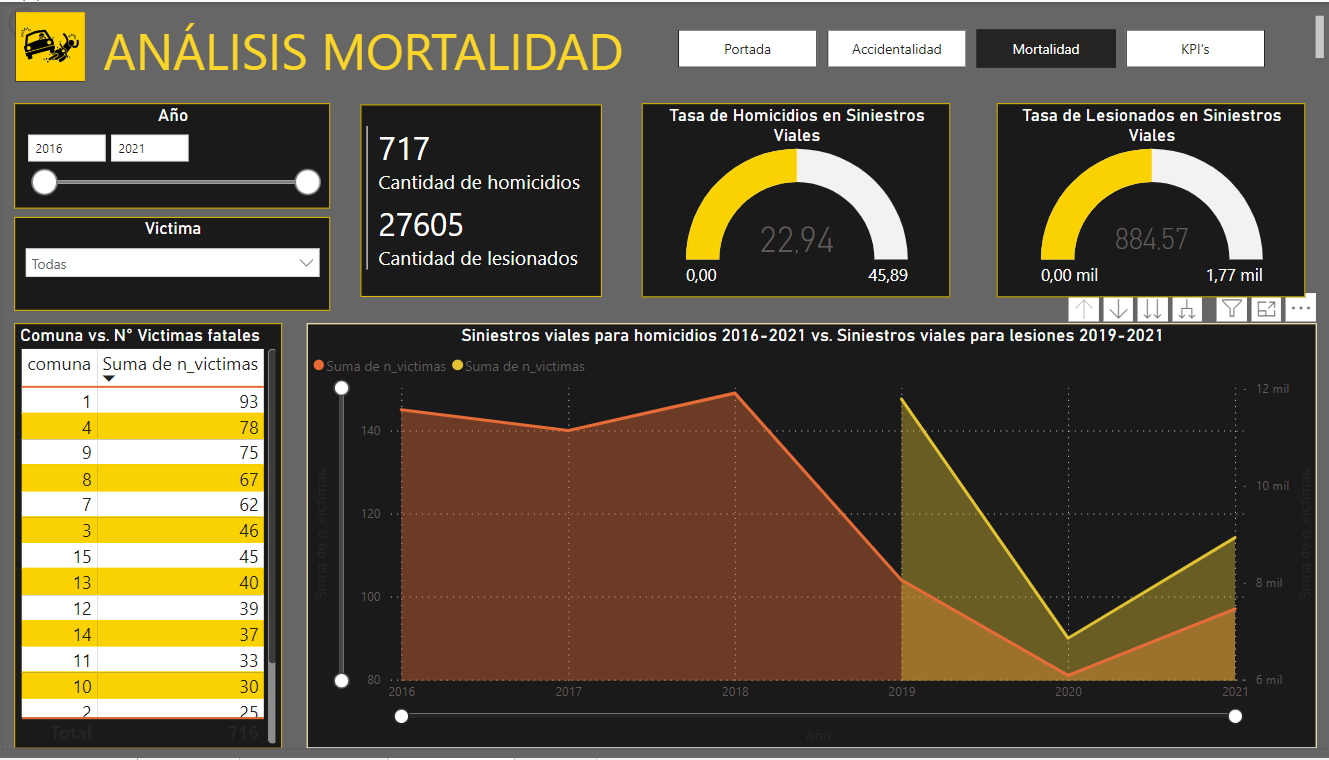

The dashboard page shown, as its layout file describes it:
{"tool":"powerbi","page":{"name":"Mortalidad","canvas":[1280,720],"ordinal":2},"visuals":[{"type":"actionButton","box":[0,0,100,40],"z":0},{"type":"areaChart","title":"Siniestros viales para homicidios 2016-2021 vs. Siniestros viales para lesiones 2019-2021","fields":{"Category":["Calendario.Fecha.Variación.Jerarquía de fechas.Año","Calendario.Fecha.Variación.Jerarquía de fechas.Trimestre","Calendario.Fecha.Variación.Jerarquía de fechas.Mes"],"Y":["Sum(homicidios.n_victimas)"],"Y2":["Sum(lesiones.n_victimas)"]},"box":[293.1,309.9,974.5,410.1],"z":1000},{"type":"multiRowCard","fields":{"Values":["Modelomedidas.Cantidad de homicidios","Modelomedidas.Cantidad de lesionados"]},"box":[344.9,98.9,232.8,185.7],"z":2000},{"type":"tableEx","title":"Comuna vs.  N° Victimas fatales","fields":{"Values":["homicidios.comuna","Sum(homicidios.n_victimas)"]},"box":[10.9,309.9,258.1,410.1],"z":3000},{"type":"slicer","title":"Victima","fields":{"Values":["homicidios.victima"]},"box":[10.9,207.4,305.1,90.5],"z":4000},{"type":"gauge","fields":{"Y":["Modelomedidas.Tasa de Homicidios en Siniestros Viales"]},"box":[616.3,97.7,297.9,186.9],"z":5000},{"type":"gauge","fields":{"Y":["Modelomedidas.Tasa de Lesionados en Siniestros Viales"]},"box":[958.8,97.7,297.9,186.9],"z":6000},{"type":"textbox","box":[0,8.4,1279.6,73.6],"z":7000},{"type":"image","box":[0,4.8,90.5,77.2],"z":8000},{"type":"pageNavigator","box":[651.3,26.5,566.8,37.4],"z":9000},{"type":"slicer","title":"Año","fields":{"Values":["Calendario.Fecha.Variación.Jerarquía de fechas.Año"]},"box":[10.9,97.7,305.1,101.3],"z":10000}]}

Visuals, with their boxes in screenshot pixels (x1, y1, x2, y2), scaled from the page's 1280x720 canvas onto the 1329x760 screenshot:
actionButton: (x1=0, y1=0, x2=104, y2=42)
"Siniestros viales para homicidios 2016-2021 vs. Siniestros viales para lesiones 2019-2021" areaChart: (x1=304, y1=327, x2=1316, y2=759)
multiRowCard - Modelomedidas.Cantidad de homicidios x Modelomedidas.Cantidad de lesionados: (x1=358, y1=104, x2=600, y2=300)
"Comuna vs.  N° Victimas fatales" tableEx: (x1=11, y1=327, x2=279, y2=759)
"Victima" slicer: (x1=11, y1=219, x2=328, y2=314)
gauge - Modelomedidas.Tasa de Homicidios en Siniestros Viales: (x1=640, y1=103, x2=949, y2=300)
gauge - Modelomedidas.Tasa de Lesionados en Siniestros Viales: (x1=996, y1=103, x2=1305, y2=300)
textbox: (x1=0, y1=9, x2=1328, y2=87)
image: (x1=0, y1=5, x2=94, y2=87)
pageNavigator: (x1=676, y1=28, x2=1265, y2=67)
"Año" slicer: (x1=11, y1=103, x2=328, y2=210)
